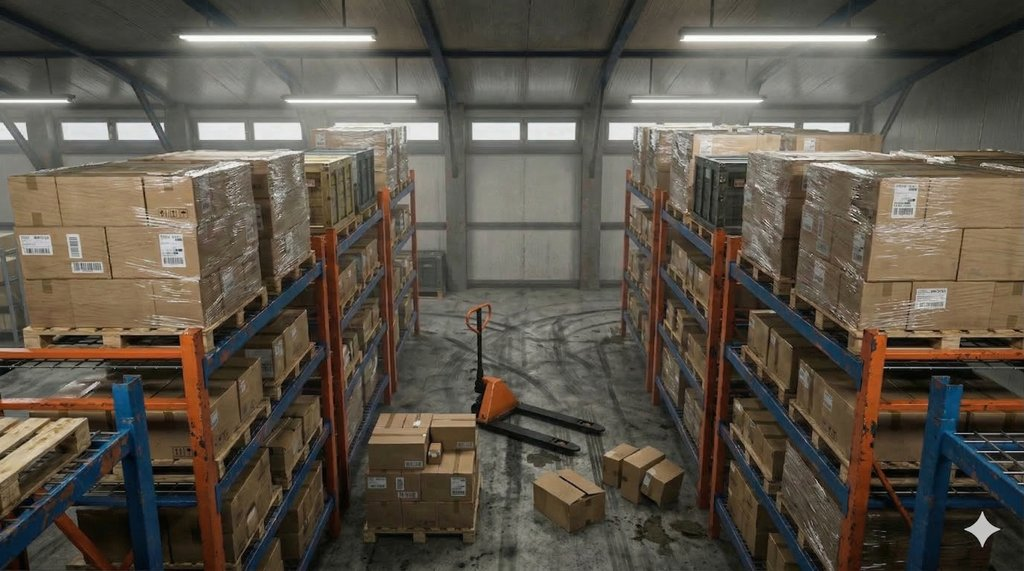obstacle: (315, 286, 725, 549)
pallet: (837, 315, 1021, 374), (20, 323, 207, 373), (783, 398, 870, 501), (777, 285, 869, 359), (355, 524, 478, 556), (733, 249, 802, 303), (676, 214, 728, 244)
